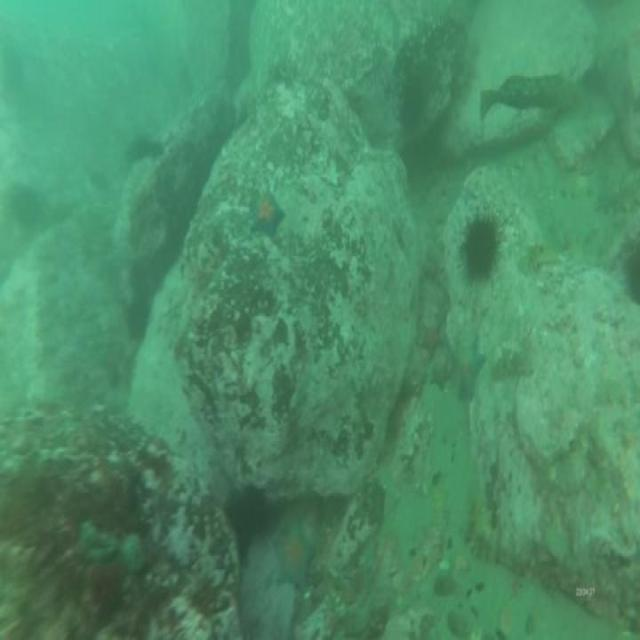echinus: (232, 491, 269, 547), (464, 220, 494, 280)
starfish: (274, 526, 314, 583), (455, 338, 483, 403), (252, 191, 284, 239), (499, 596, 527, 640)
